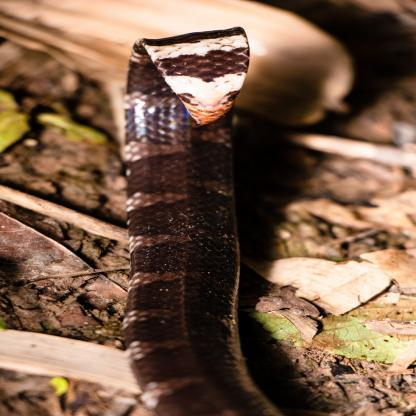Snake: (111, 22, 281, 415)
